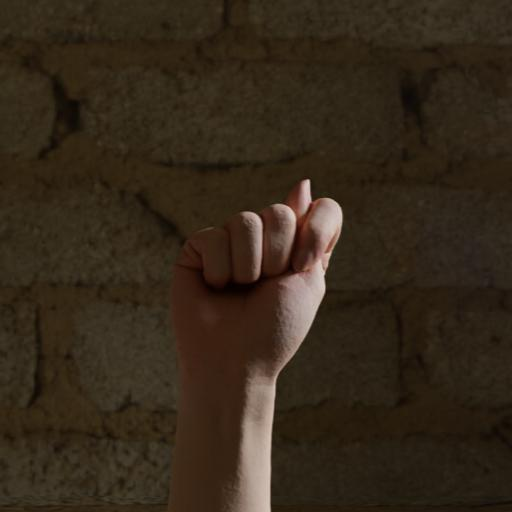T: (142, 168, 364, 512)
